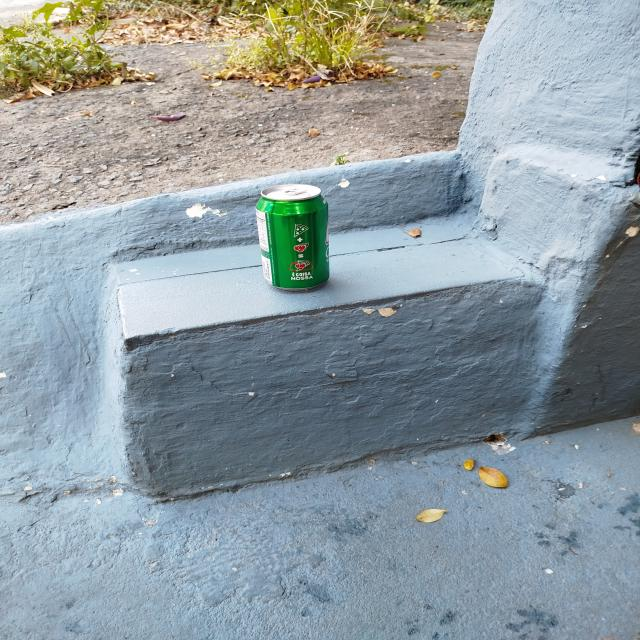Guarana: (255, 184, 330, 290)
